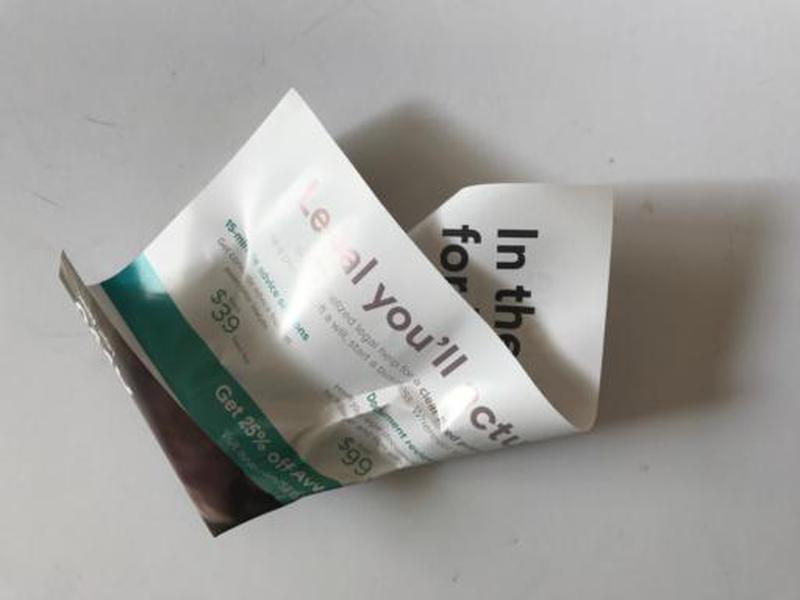paper: (53, 85, 618, 541)
